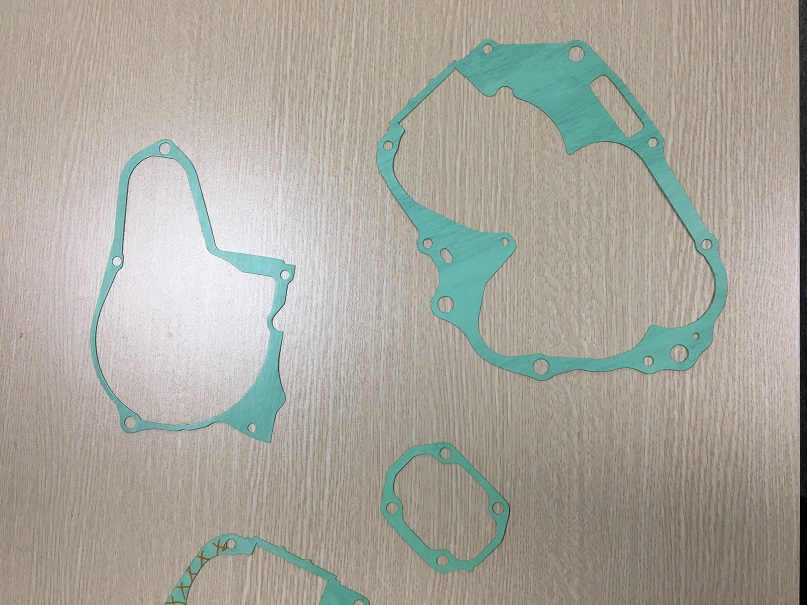type1: (79, 129, 296, 456)
type2: (371, 433, 519, 580)
type3: (364, 34, 747, 385)
